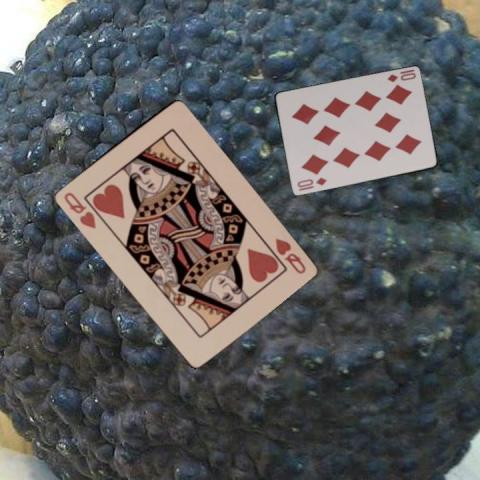10d: (384, 67, 417, 83), (294, 174, 328, 188)
Qh: (60, 188, 97, 230), (272, 235, 308, 276)
